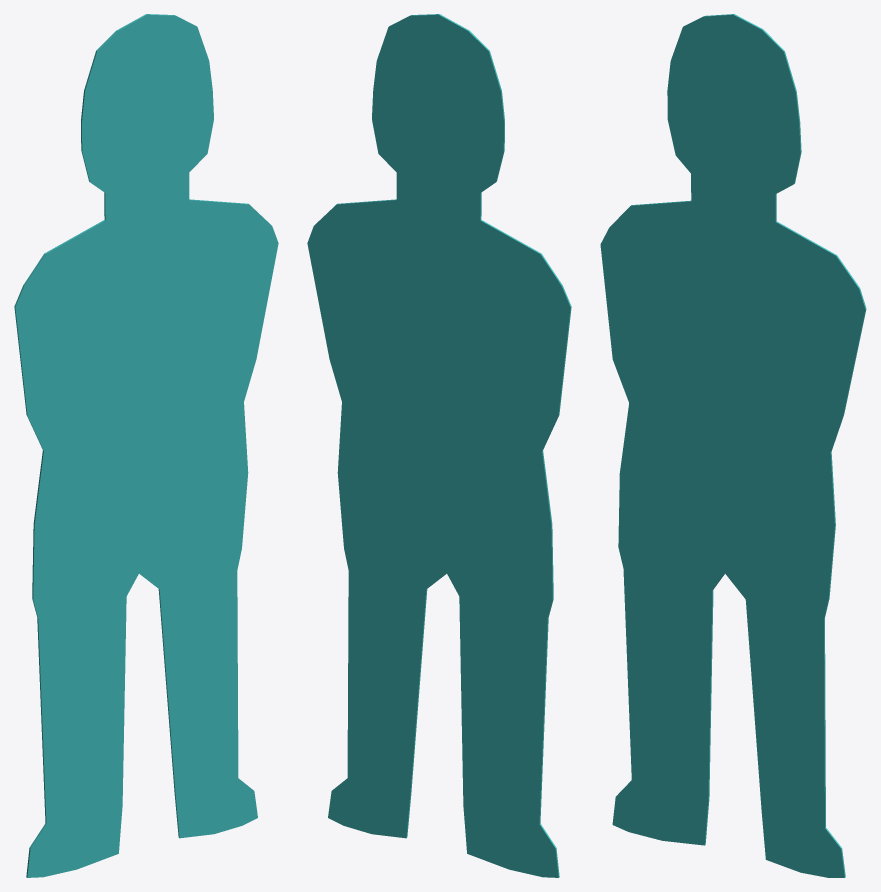
Rendered from boy_sitting.fbx.
The picture shows the model from 3 angles, left to right: view 1: azimuth 30°, elevation 25°; view 2: azimuth 150°, elevation 25°; view 3: azimuth 330°, elevation 25°; orthographic projection.
Parts seen in each view (by area): view 1: boy_sitting; view 2: boy_sitting; view 3: boy_sitting.
Boxes of the visible parts, left/top/right/bottom form: boy_sitting: left=14, top=14, right=278, bottom=877; boy_sitting: left=307, top=14, right=571, bottom=877; boy_sitting: left=600, top=14, right=866, bottom=877.
Bounding box in the file's own units: 12.51 × 38.04 × 0.0839.
